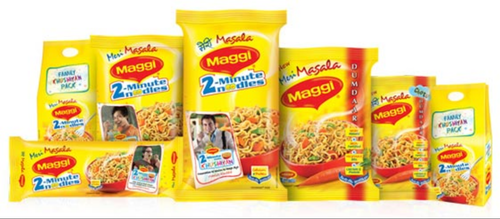maggi: (175, 12, 285, 199), (280, 48, 376, 201), (89, 36, 183, 139), (371, 75, 435, 203), (433, 106, 490, 207)
